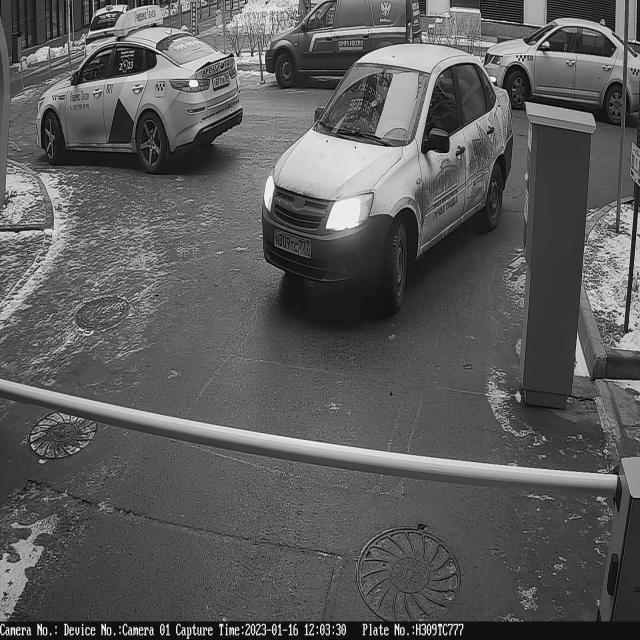car-plate-numbers: (271, 223, 314, 268)
